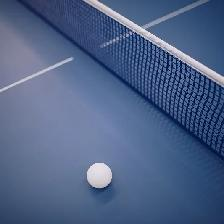WhiteBall: (85, 161, 112, 189)
